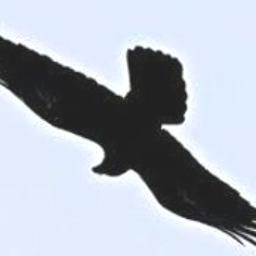Crow: (0, 16, 256, 256)
